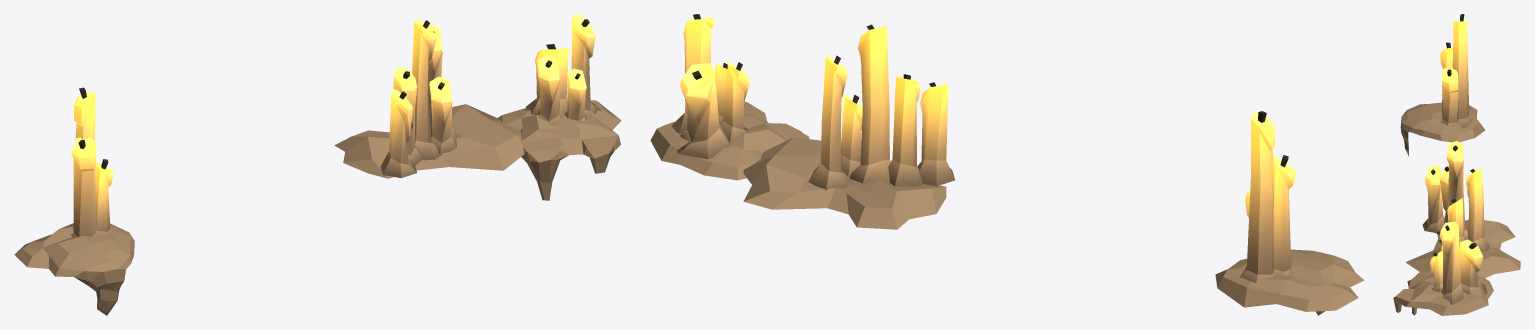
File: crypt_candles_a.gltf
3 renders of one model, left to right at view 1: azimuth 30°, elevation 25°; view 2: azimuth 150°, elevation 25°; view 3: azimuth 270°, elevation 25°, orthographic. The views are drawn at different scales.
Visible parts, largest first — view 1: crypt_candles_a; view 2: crypt_candles_a; view 3: crypt_candles_a.
Boxes of the visible parts, x1,y1,x2,y2 form: crypt_candles_a: (14, 14, 621, 315); crypt_candles_a: (650, 14, 1364, 315); crypt_candles_a: (1393, 14, 1520, 315).
Size of the model in its own units: 1.75 by 0.5584 by 0.4386.
Materials: 1 (1 with a texture image).
